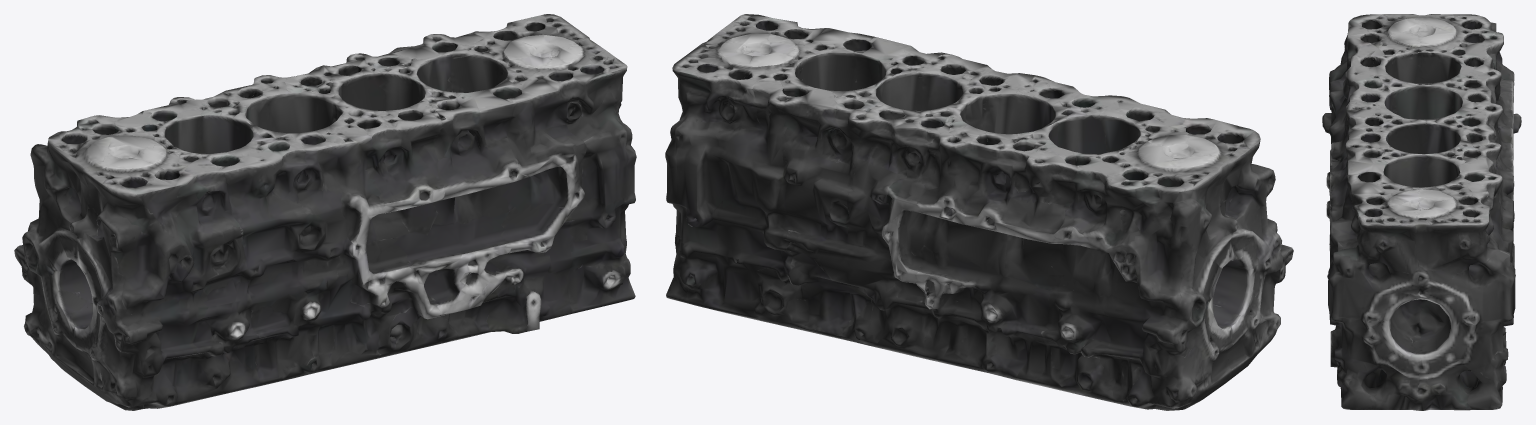
File: motor-mitsubishi-6d34.glb
3 views of the same model, side by side, from view 1: azimuth 30°, elevation 25°; view 2: azimuth 150°, elevation 25°; view 3: azimuth 270°, elevation 25° (orthographic). The views are drawn at different scales.
Size of the model in its own units: 1.9 by 0.7923 by 0.7428.
1 material, 1 textured.
